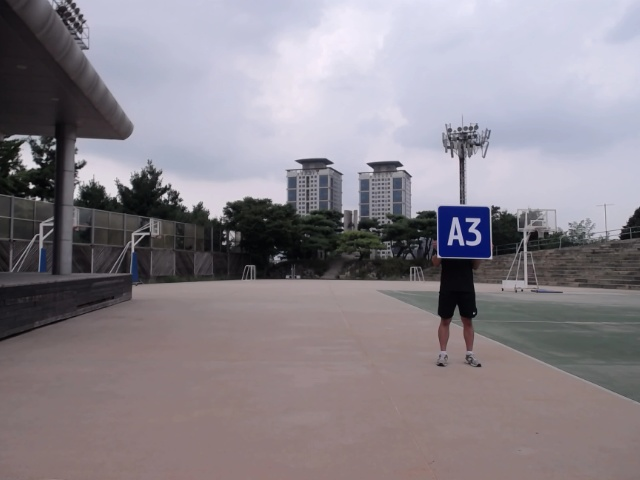delivery_a3: (437, 205, 492, 259)
